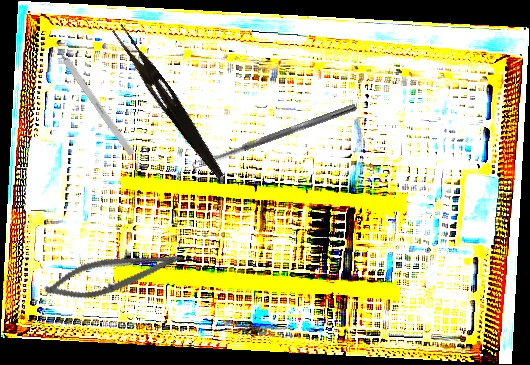Dressing Forceps: (106, 23, 232, 181)
Hook Surgical: (48, 36, 135, 157)
Micro Scissor: (40, 234, 189, 312)
Surgical Spoon: (190, 102, 358, 170)
